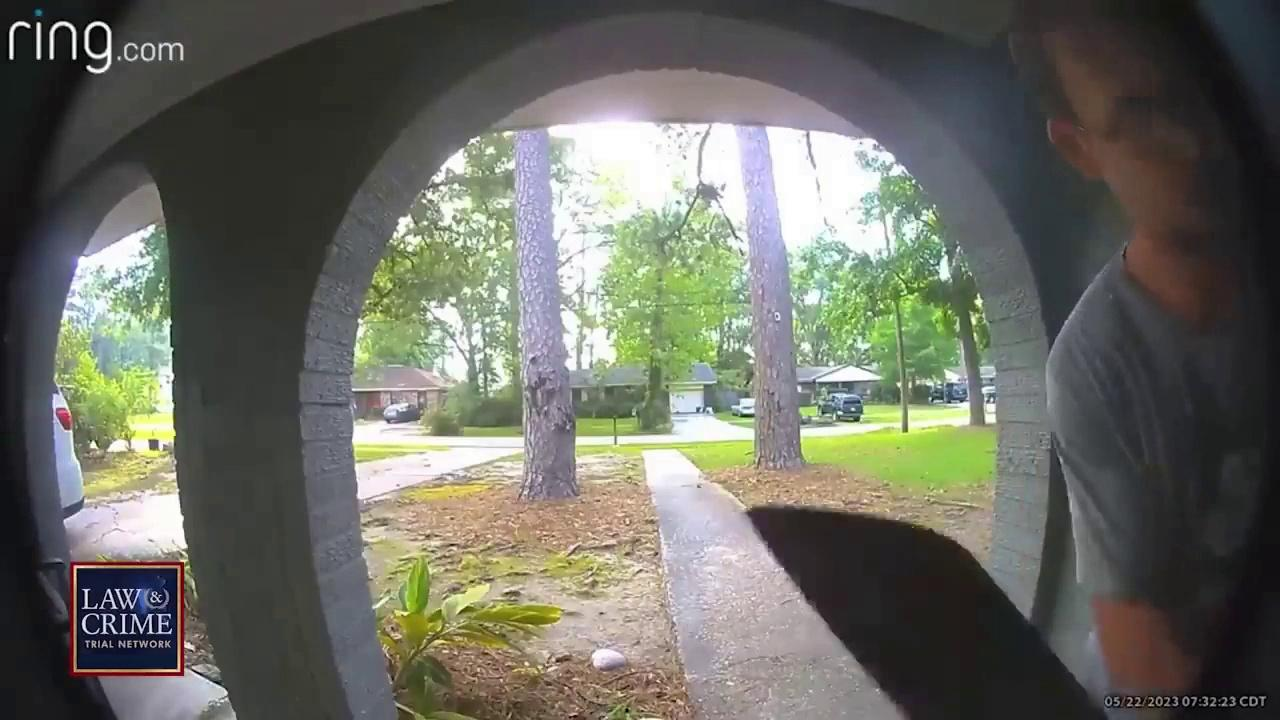suspicion: (716, 2, 1280, 720), (744, 470, 1120, 720)
